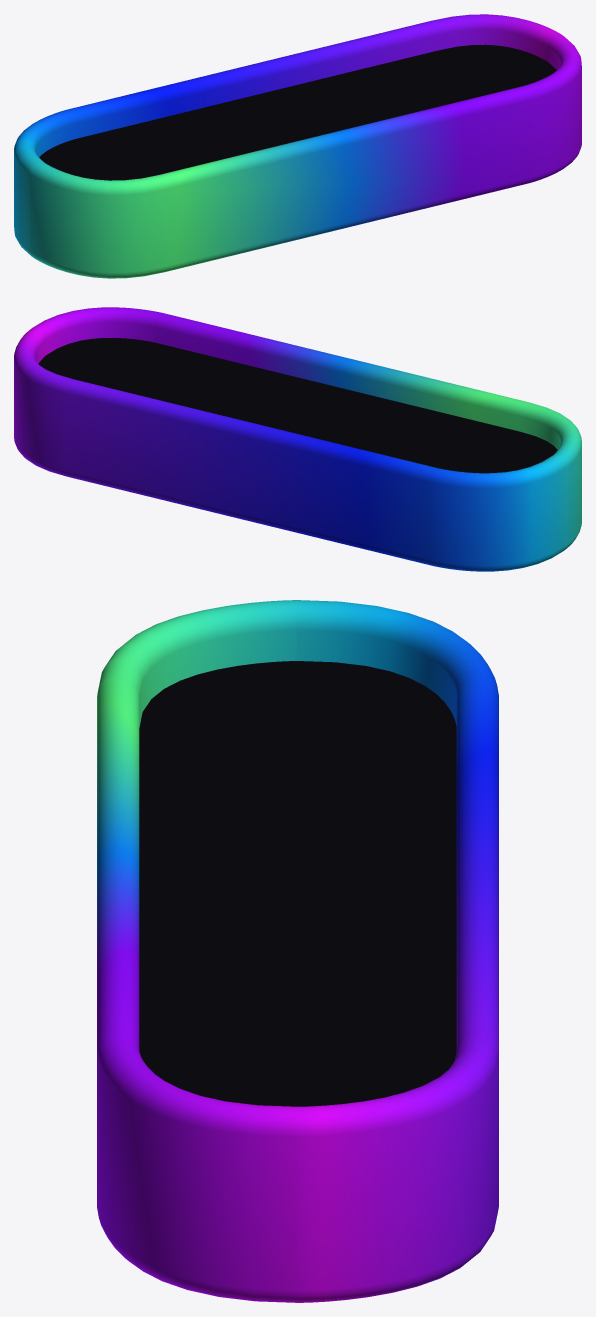
File: Paddle-25.dae
3 renders of one model, top to bottom at view 1: azimuth 30°, elevation 25°; view 2: azimuth 150°, elevation 25°; view 3: azimuth 270°, elevation 25°, orthographic. The views are drawn at different scales.
Parts seen in each view (by area): view 1: Paddle; view 2: Paddle; view 3: Paddle.
Boxes of the visible parts, left/top/right/bottom form: Paddle: left=14, top=14, right=581, bottom=278; Paddle: left=14, top=307, right=581, bottom=571; Paddle: left=97, top=600, right=498, bottom=1302.
Bounding box in the file's own units: 0.2922 × 0.05 × 0.0946.
Materials: 2 (1 with a texture image).
